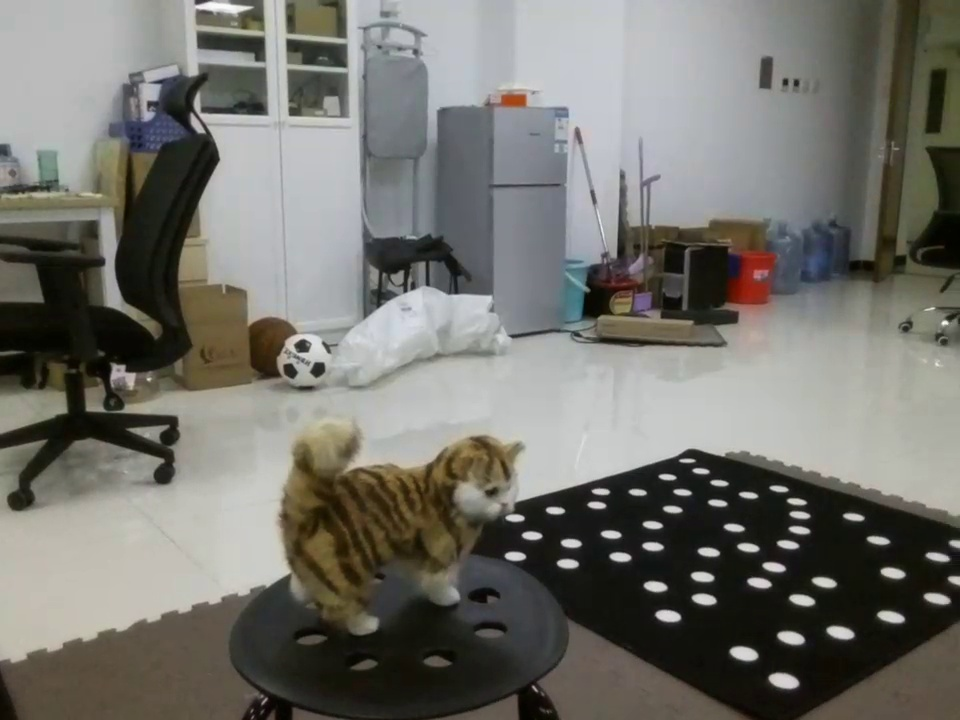cat: (266, 414, 536, 629)
